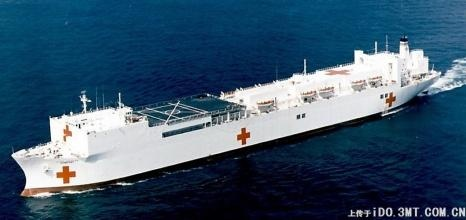Cargoship: (10, 30, 441, 203)
